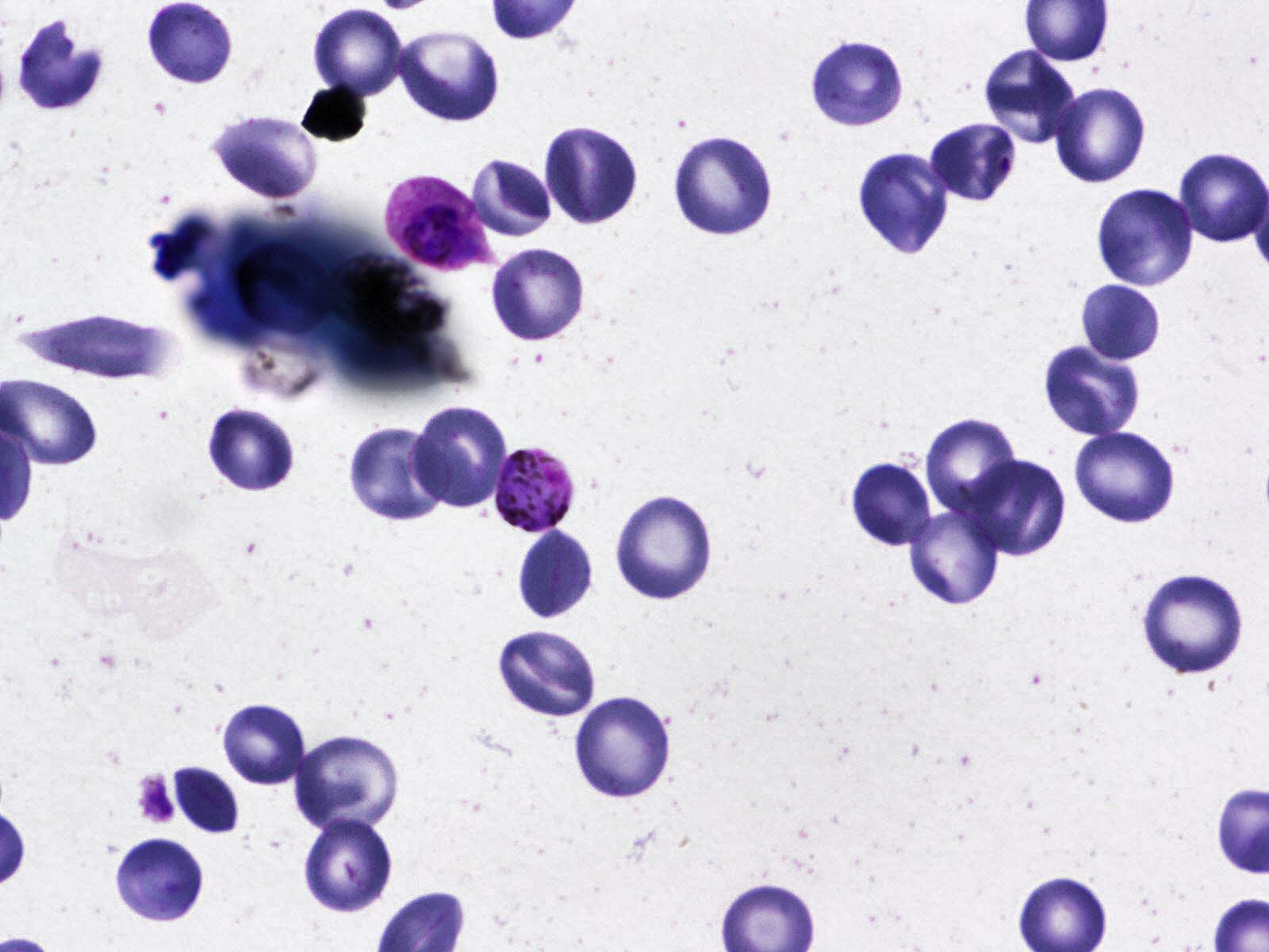Infected: (385, 176, 497, 273), (495, 447, 576, 535)
Uninfected: (17, 309, 175, 381), (671, 134, 780, 238), (1144, 576, 1248, 678), (289, 734, 397, 831), (1073, 430, 1179, 527), (489, 244, 587, 347), (213, 109, 325, 199), (390, 29, 496, 124), (966, 459, 1068, 557), (618, 495, 711, 601), (576, 696, 669, 800), (544, 124, 639, 225), (926, 414, 1018, 518), (1052, 85, 1148, 184), (349, 428, 450, 522), (412, 407, 504, 510), (1098, 190, 1194, 285), (984, 46, 1075, 146), (1175, 146, 1268, 243), (303, 815, 395, 913), (907, 510, 999, 606), (857, 153, 945, 251), (808, 40, 905, 128), (309, 3, 397, 99), (1046, 348, 1140, 436), (493, 634, 595, 715), (113, 837, 207, 923), (17, 19, 105, 110), (219, 700, 308, 785), (146, 2, 234, 84), (210, 405, 292, 491), (929, 121, 1018, 198), (520, 528, 594, 619), (851, 464, 930, 547), (470, 158, 550, 239), (1081, 282, 1160, 362), (171, 767, 239, 835)
